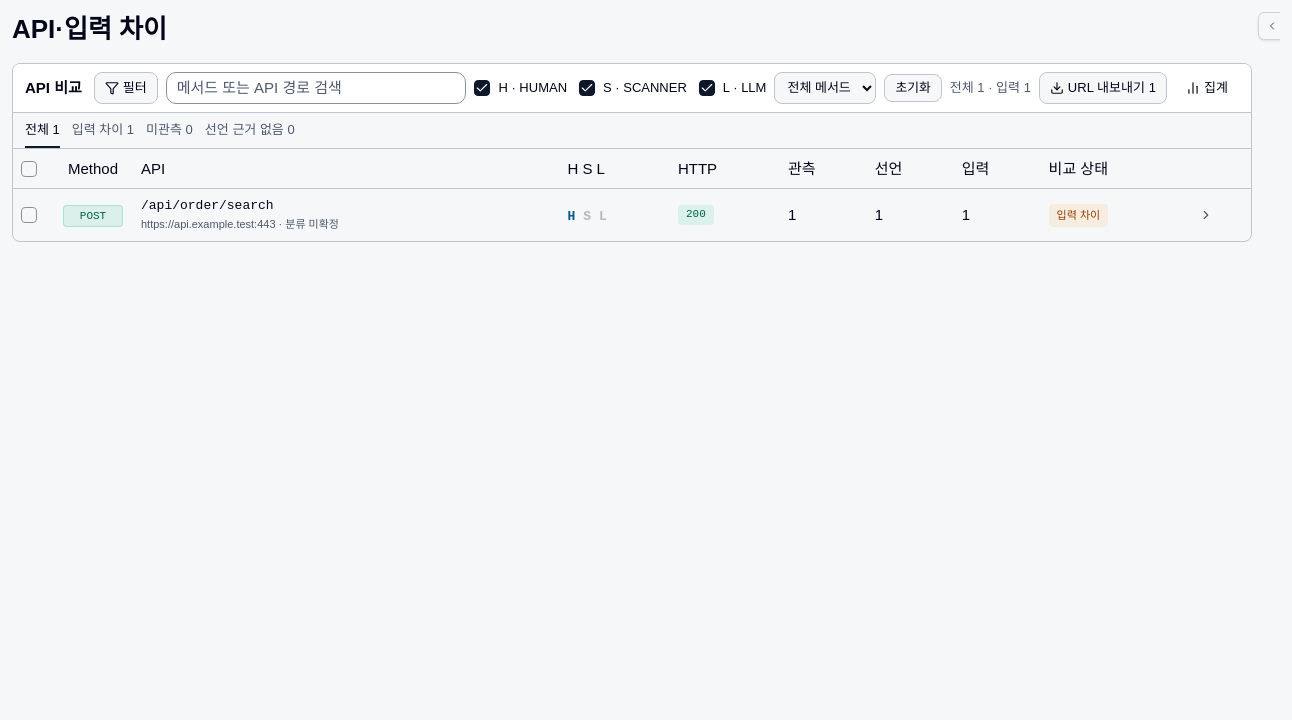
Test case: shows server-provided endpoint and parameter deltas without inventing coverage percentages
Expected: the heading "API·입력 차이" is shown, [12,14,167,44]
Expected: the text "H" is shown, [567,208,575,226]
Click the button with aria-label "API 상세".
click(207, 206)  # box [141,198,274,215]
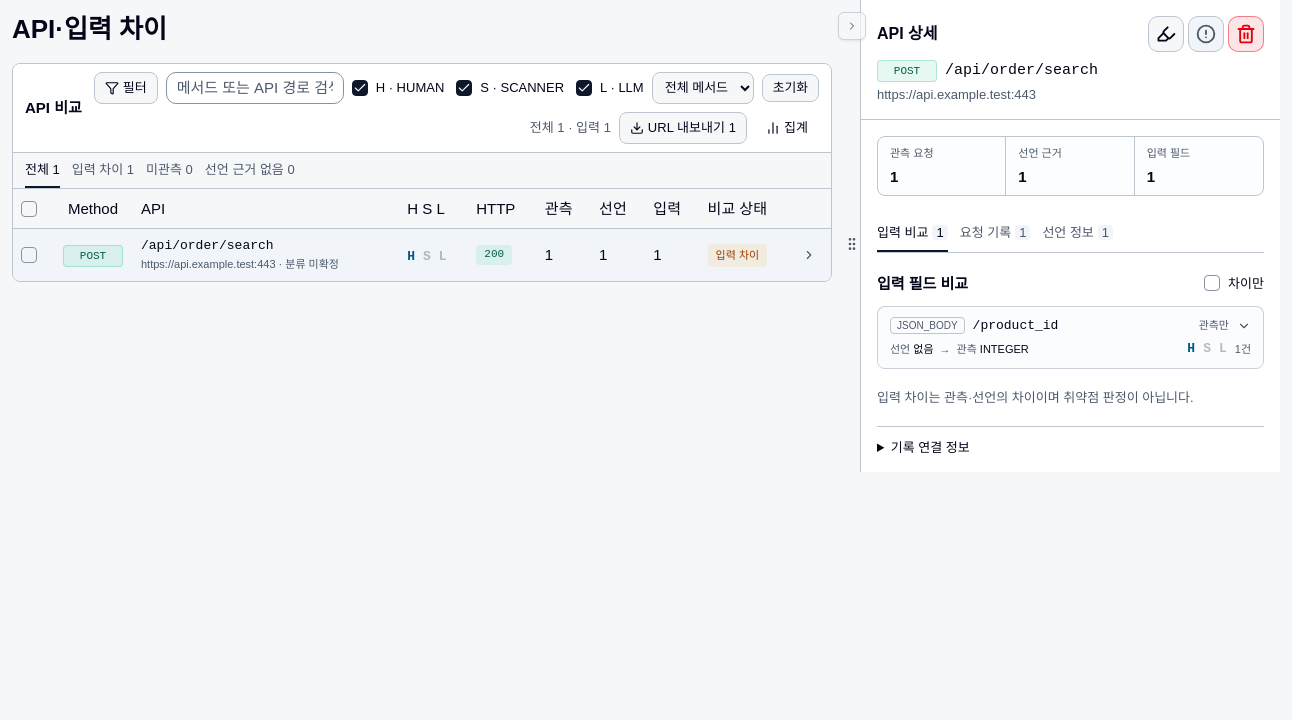
Result: the text "/product_id" is shown at [973,317,1058,334]
Click the heading "기록 연결 정보".
click(930, 448)  # box [891,440,970,455]
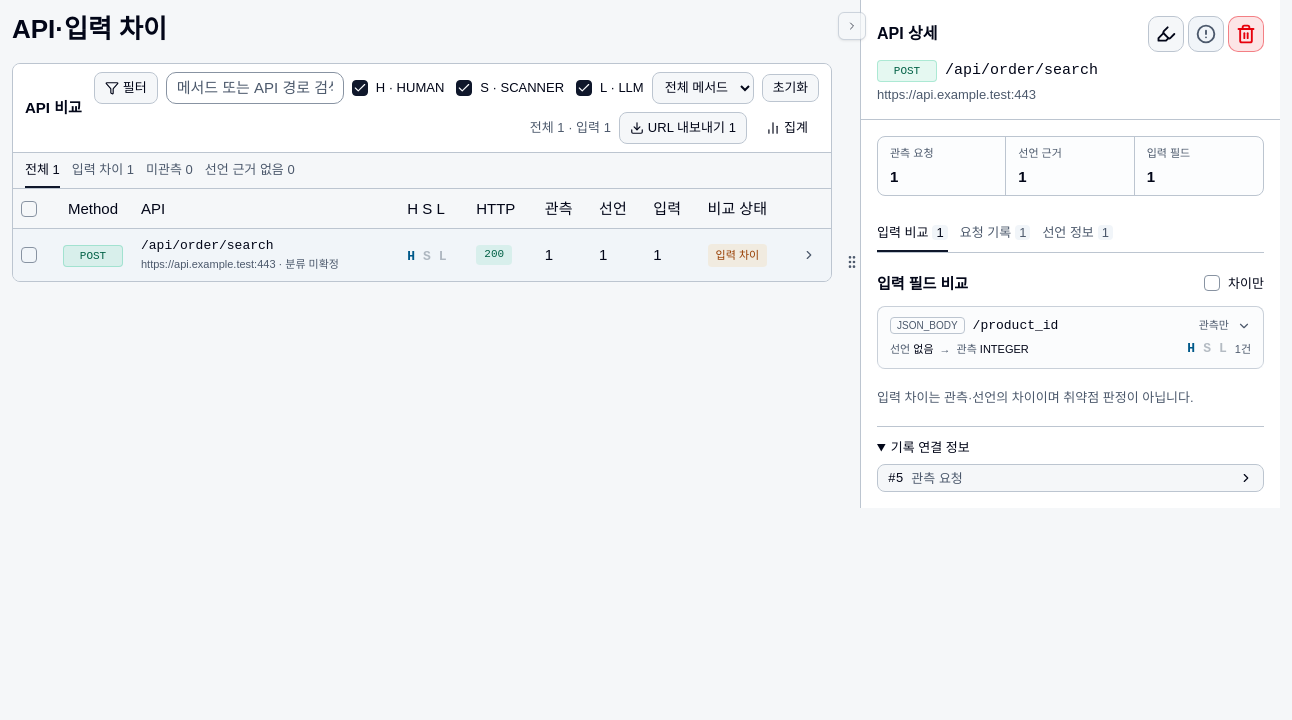
Click the tab "요청 기록1".
click(995, 234)  # box [960,216,1030,252]
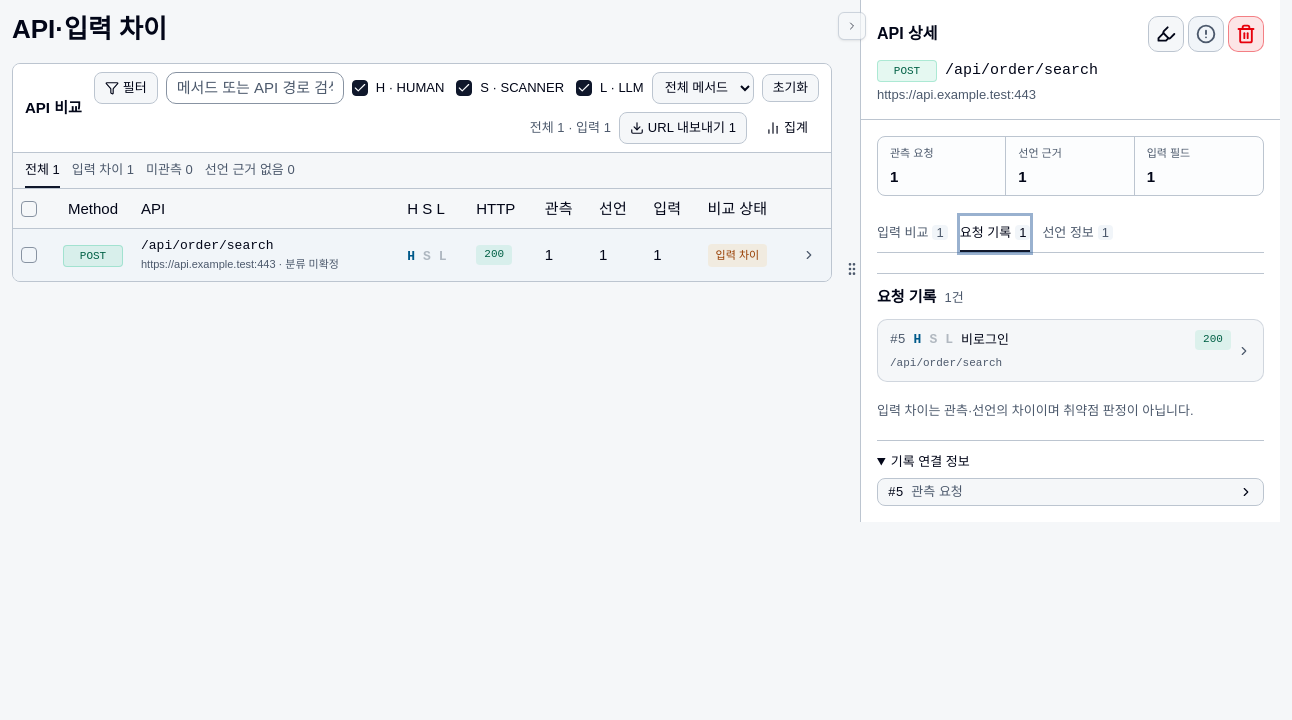
Click the button with aria-label "요청 기록 상세 · #5 · H · 비로그인 · HTTP 200".
click(985, 340)  # box [877,319,1264,382]
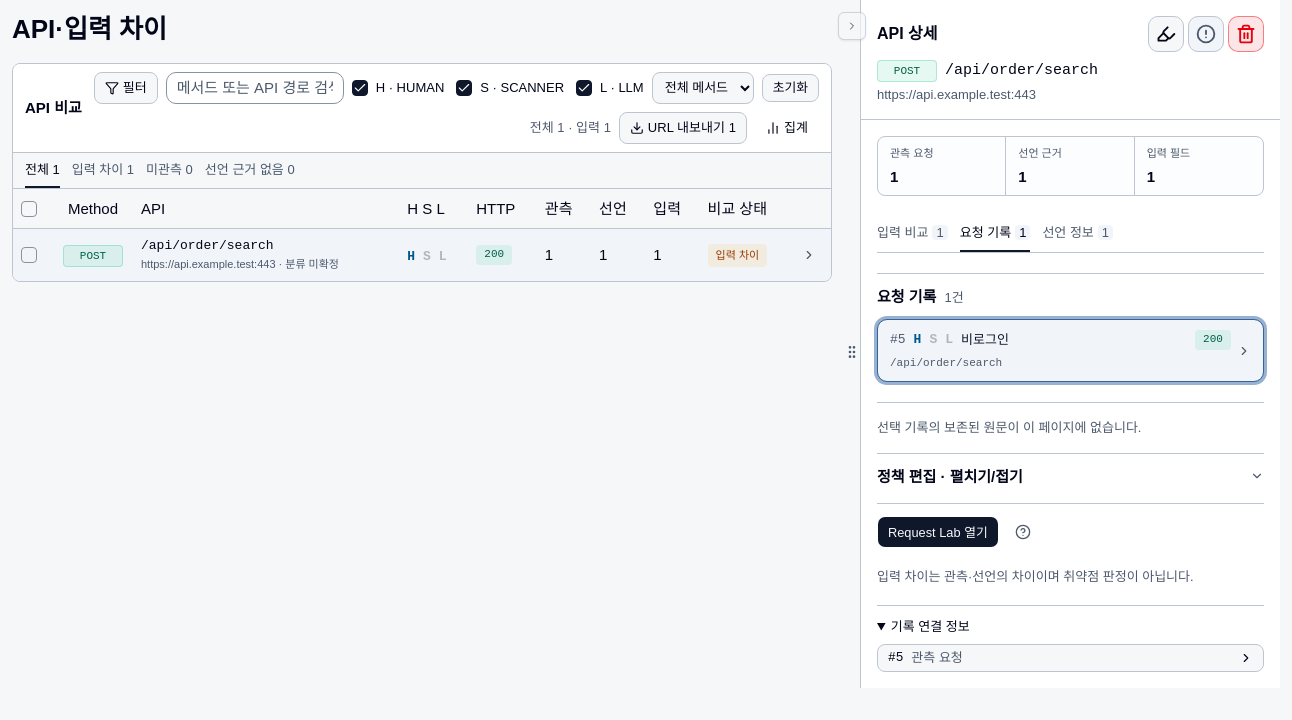
Result: the button "Request Lab 열기" is shown at [877,516,999,548]
